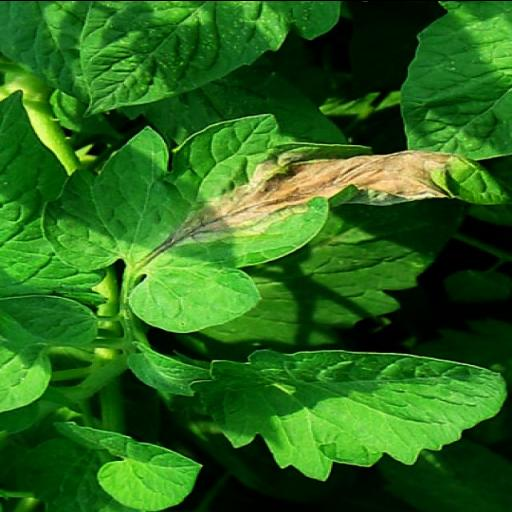disease_tomato: (40, 112, 512, 333)
